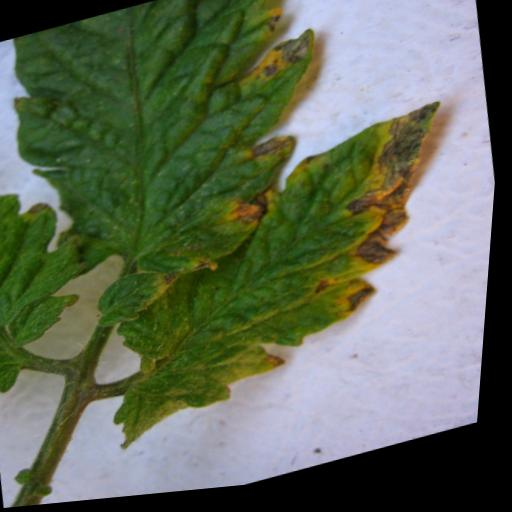Septoria: (76, 101, 488, 454), (0, 0, 354, 321)
